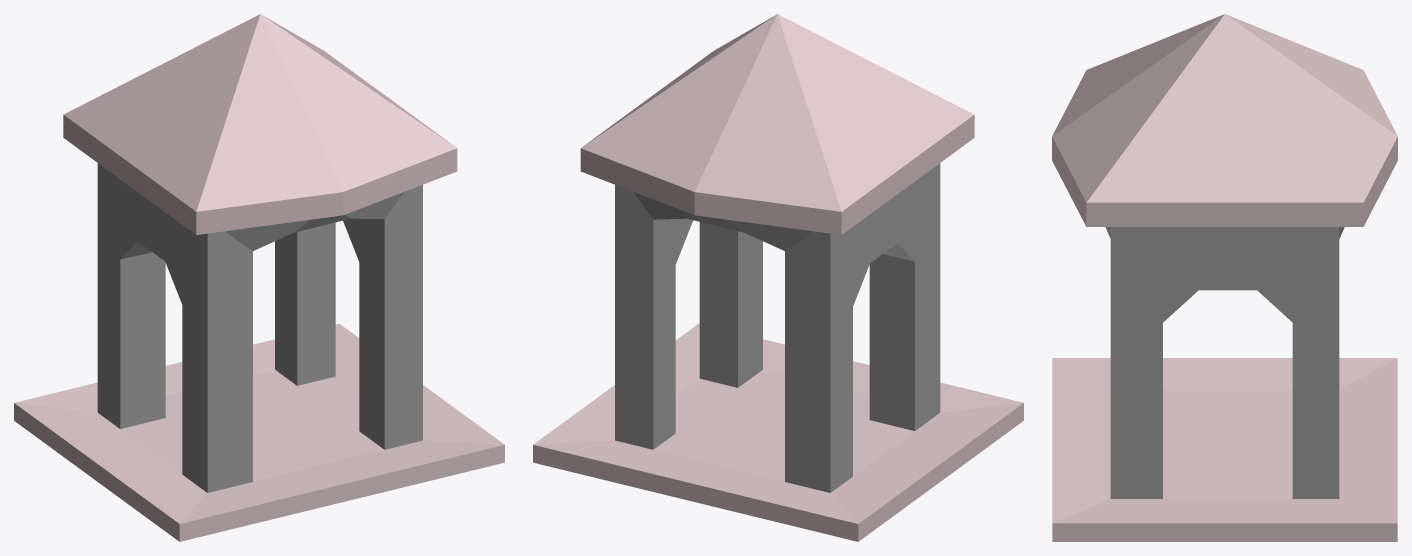
The model's file is house7.fbx.
3 views of the same model, side by side, from view 1: azimuth 30°, elevation 25°; view 2: azimuth 150°, elevation 25°; view 3: azimuth 270°, elevation 25° (orthographic). The views are drawn at different scales.
Parts seen in each view (by area): view 1: mid_build .003; view 2: mid_build .003; view 3: mid_build .003.
Boxes of the visible parts, x1=… form: mid_build .003: x1=14, y1=14, x2=504, y2=541; mid_build .003: x1=533, y1=14, x2=1023, y2=541; mid_build .003: x1=1052, y1=14, x2=1397, y2=541.
Size of the model in its own units: 2827 by 3552 by 2497.
